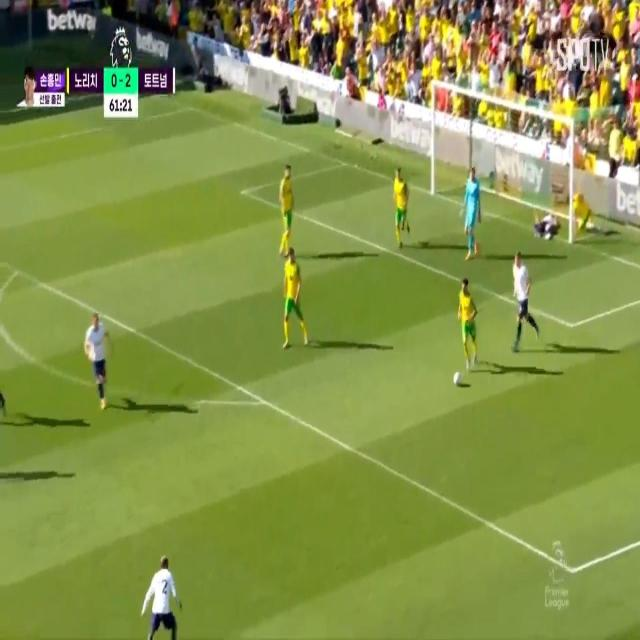ball: (452, 372, 464, 386)
player: (282, 243, 308, 345), (507, 251, 535, 339), (149, 564, 175, 640), (386, 161, 408, 242), (458, 276, 476, 367), (277, 155, 293, 256), (572, 188, 604, 236), (88, 318, 106, 376), (532, 210, 562, 242)
